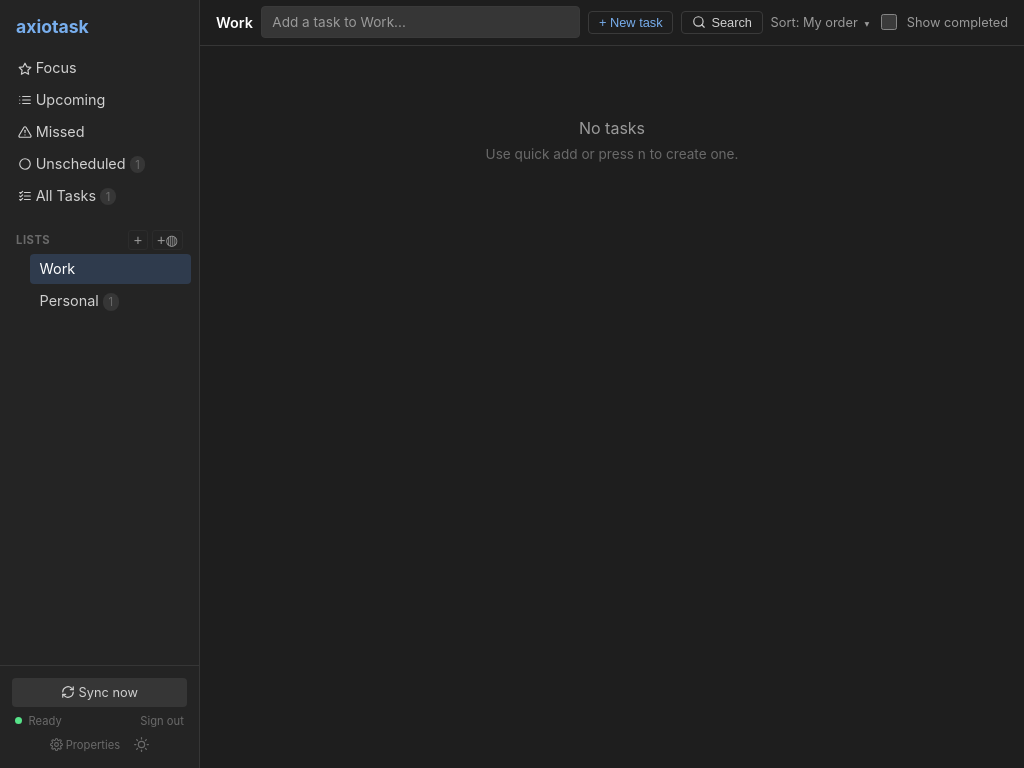
Test case: GH#17: Search overlay › shows list tag for each result
Press /
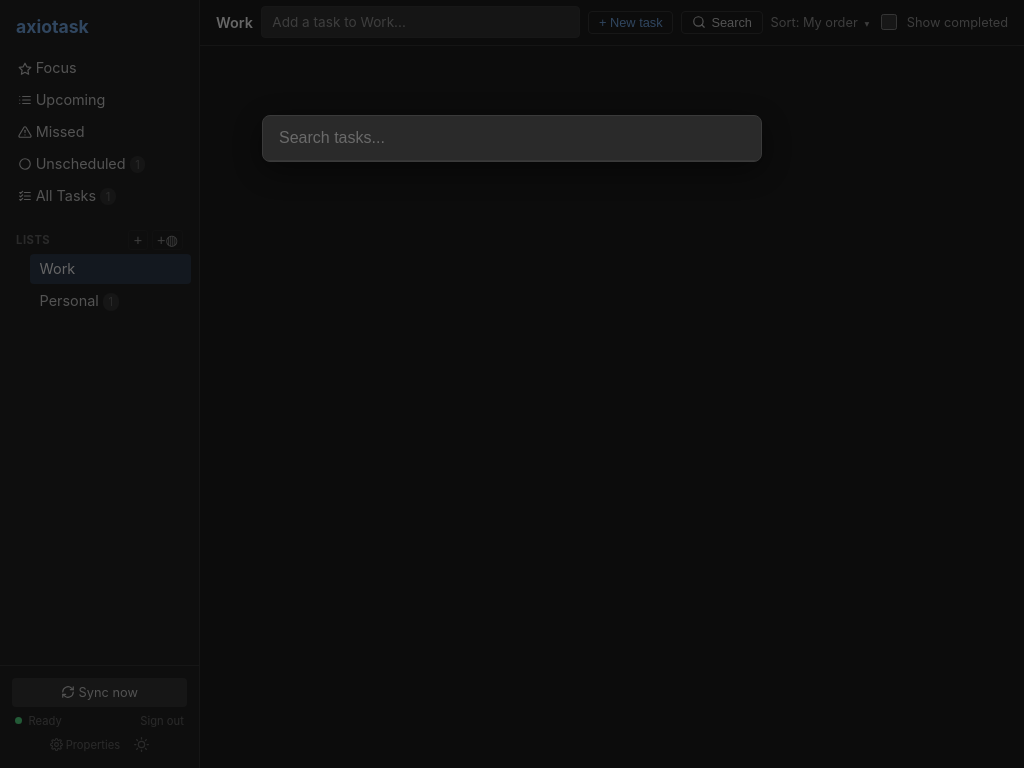
In the field with placeholder "Search tasks...": (512, 138) x1=263 y1=116 x2=761 y2=161, type "milk"
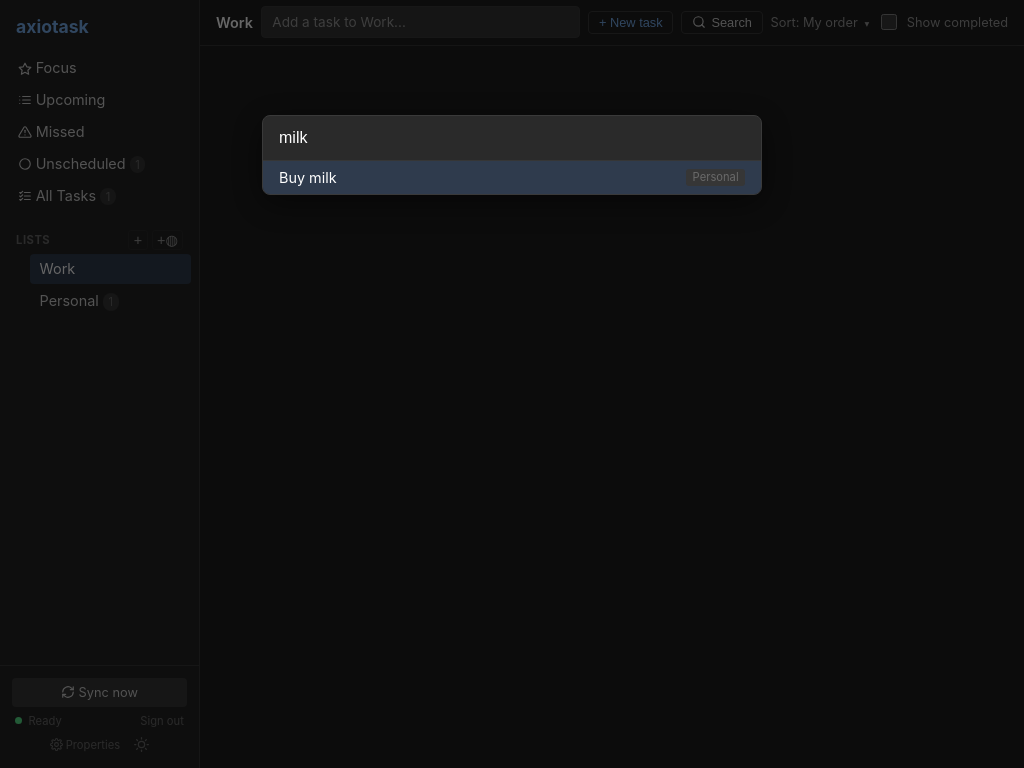
Now the text with class "result-list" reads "Personal", box x1=693 y1=170 x2=739 y2=184
